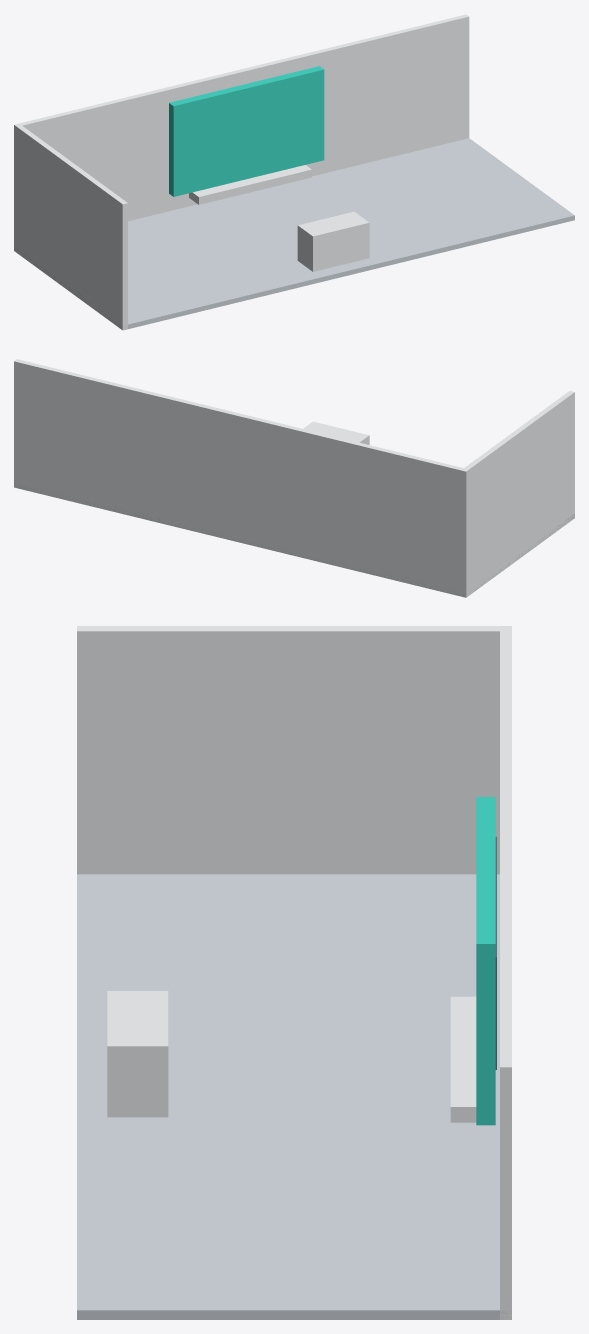
The picture shows the model from 3 angles, top to bottom: view 1: azimuth 30°, elevation 25°; view 2: azimuth 150°, elevation 25°; view 3: azimuth 270°, elevation 25°; orthographic projection. The views are drawn at different scales.
Visible parts, largest first — view 1: Exhibition Booth Concept; view 2: Exhibition Booth Concept; view 3: Exhibition Booth Concept.
Part boxes in pixels (x1,y1,x2,y2): Exhibition Booth Concept: (14, 14, 574, 330); Exhibition Booth Concept: (14, 359, 574, 597); Exhibition Booth Concept: (77, 626, 511, 1319).
Size of the model in its own units: 12 by 3.2 by 5.
